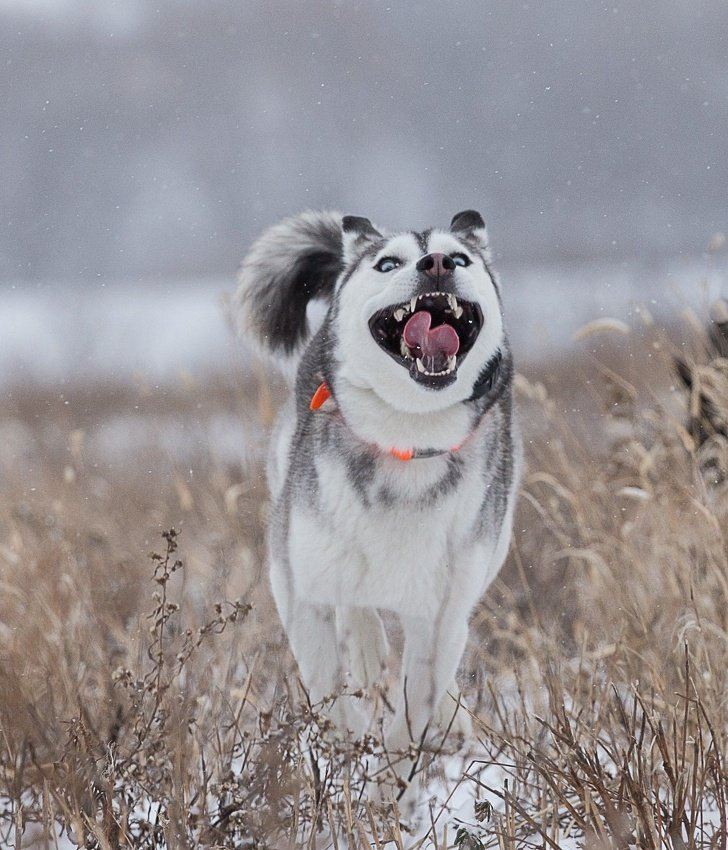husky: (227, 164, 574, 725)
